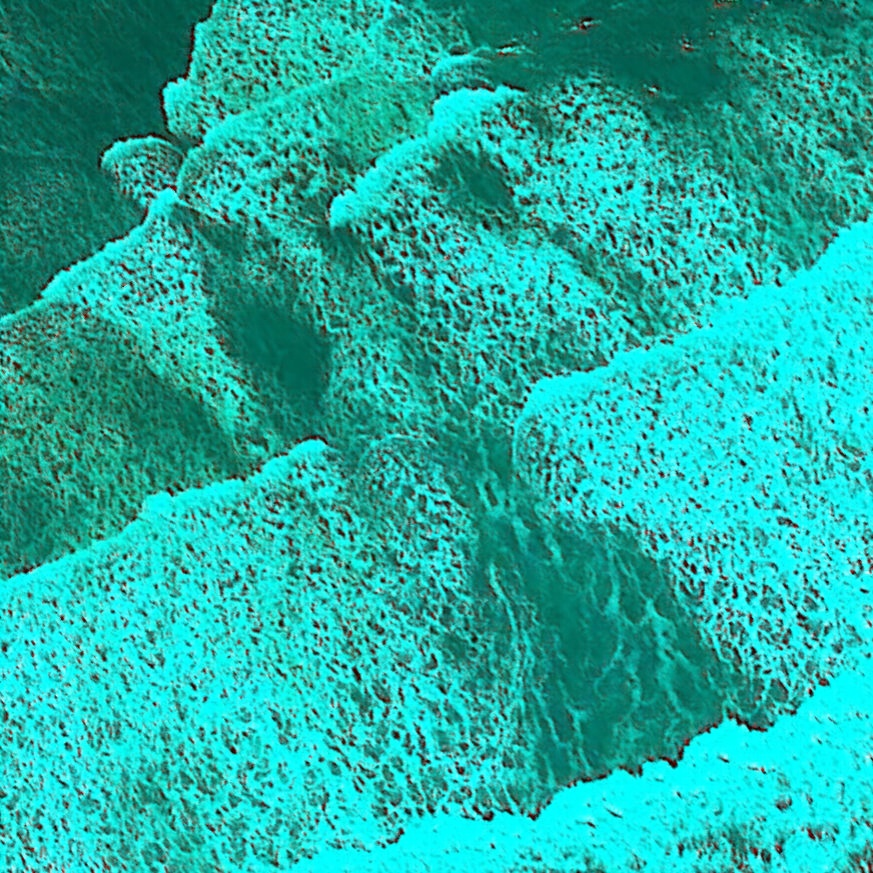rip_current: (300, 318, 752, 771)
